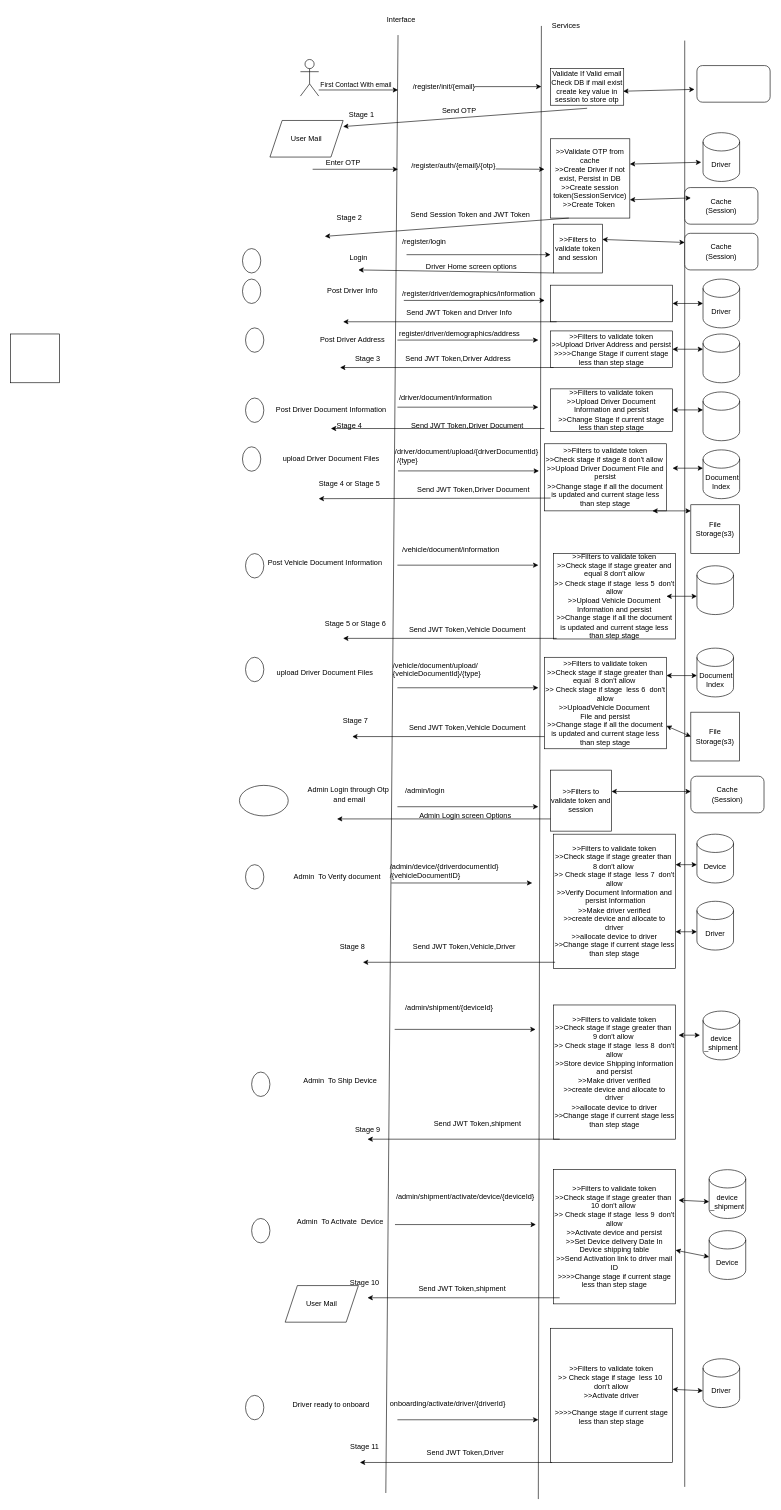
Some shapes in this 781 by 1510 pixel diagram are drawn without their labels. The shapes that lost their labels are listed below. From the top down, each one's centre as x and y in pixels, then its label:
At (x=309, y=77): "Actor".
At (x=733, y=83): "Cache".
At (x=611, y=303): ">>Filters to validate token >>Upload Driver information and persist".
At (x=721, y=358): "Driver Address".
At (x=721, y=416): "Driver Document".
At (x=715, y=590): "Vehicle Document".
